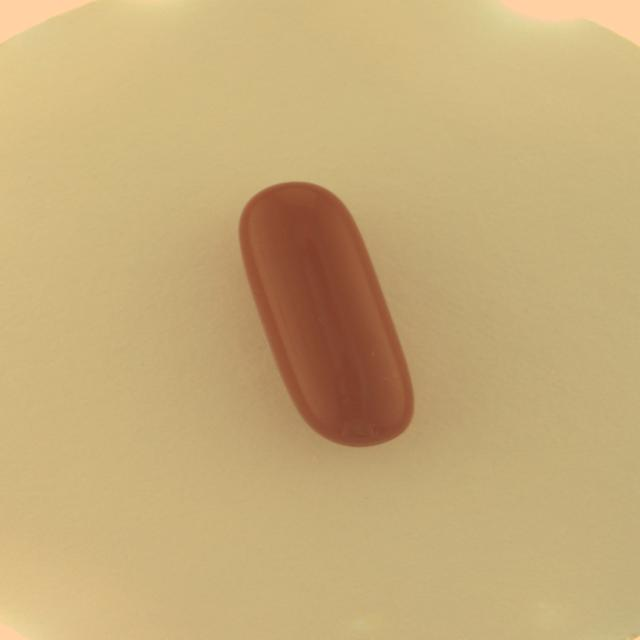Oval: (234, 178, 423, 452)
